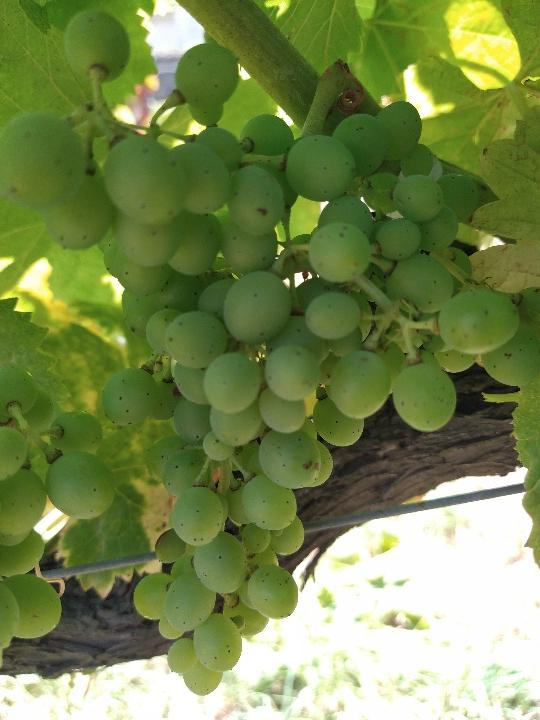grape: (4, 8, 530, 700)
